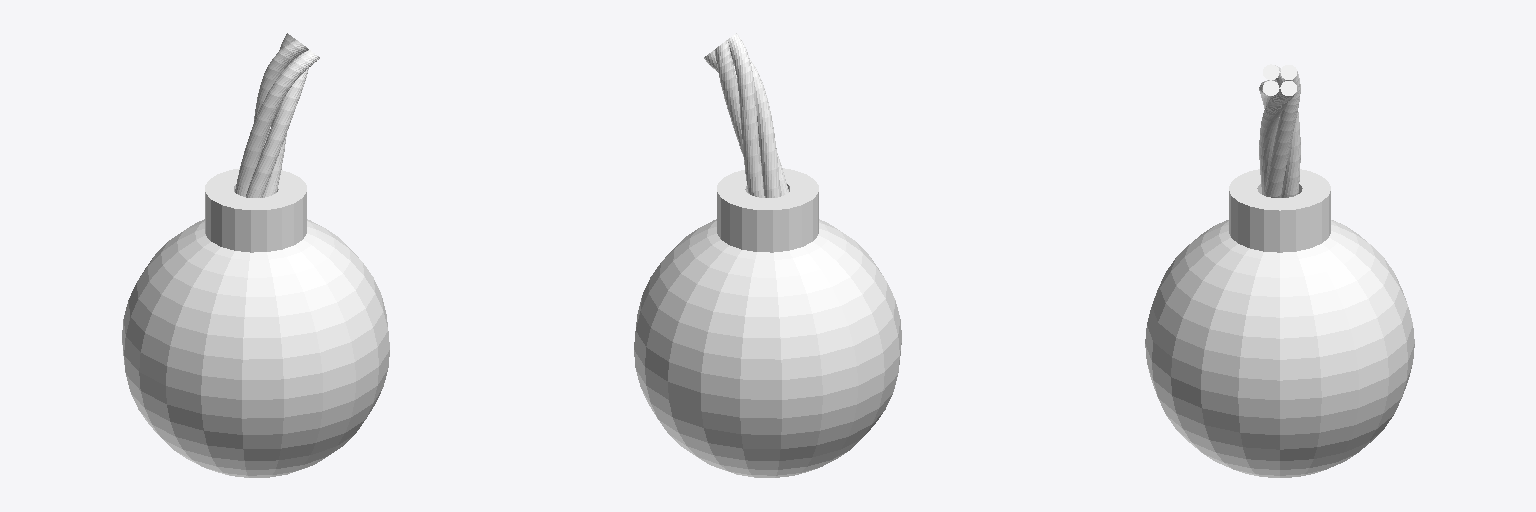
The model's file is CartoonBomb.obj.
3 views of the same model, side by side, from view 1: azimuth 30°, elevation 25°; view 2: azimuth 150°, elevation 25°; view 3: azimuth 270°, elevation 25° (orthographic).
Visible parts, largest first — view 1: pSphere1_Mesh, pPipe1_Mesh.001, pCylinder14_Mesh.002; view 2: pSphere1_Mesh, pPipe1_Mesh.001, pCylinder14_Mesh.002; view 3: pSphere1_Mesh, pPipe1_Mesh.001, pCylinder14_Mesh.002.
Part boxes in pixels (x1,y1,x2,y2): pSphere1_Mesh: (122,219,389,477); pPipe1_Mesh.001: (205,168,306,252); pCylinder14_Mesh.002: (235,33,319,197); pSphere1_Mesh: (634,219,901,477); pPipe1_Mesh.001: (717,168,818,252); pCylinder14_Mesh.002: (704,33,788,197); pSphere1_Mesh: (1145,220,1414,477); pPipe1_Mesh.001: (1229,169,1330,252); pCylinder14_Mesh.002: (1259,64,1300,197).
Size of the model in its own units: 2.11 by 3.61 by 2.11.